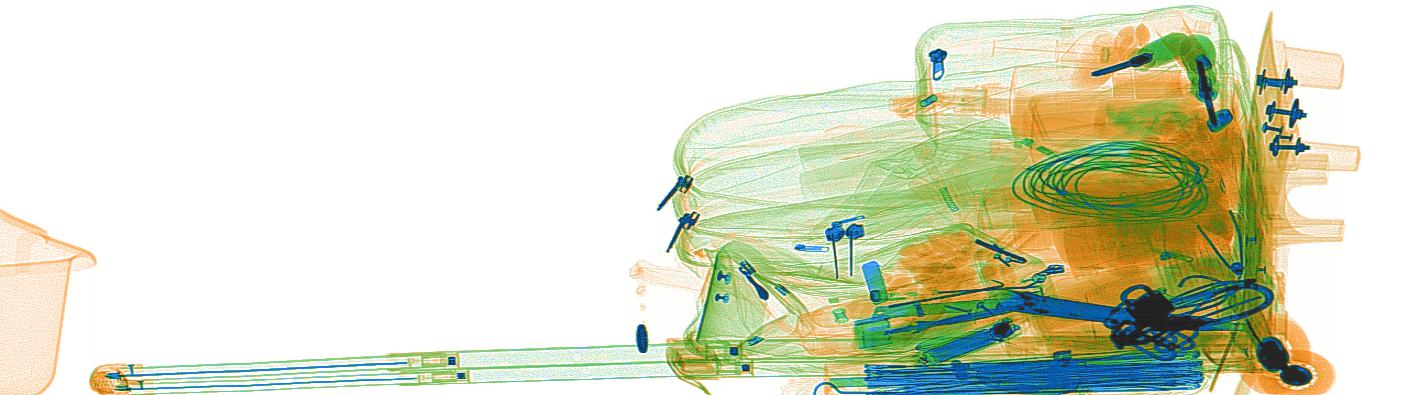battery: (922, 325, 997, 362)
plasticBottleWithaNozzle: (886, 67, 1242, 168)
